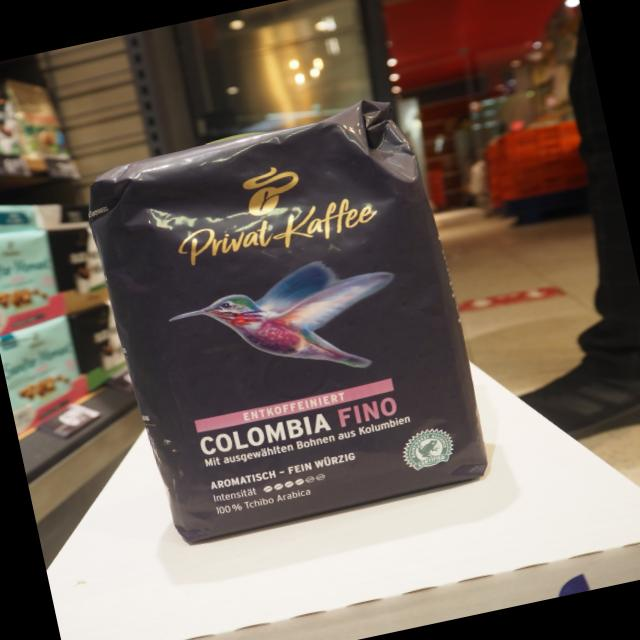C Fino Bohne: (72, 82, 502, 554)
